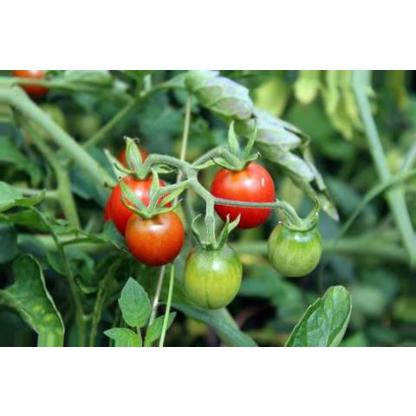tomato: (203, 155, 281, 235), (101, 163, 179, 243), (124, 198, 184, 268)
